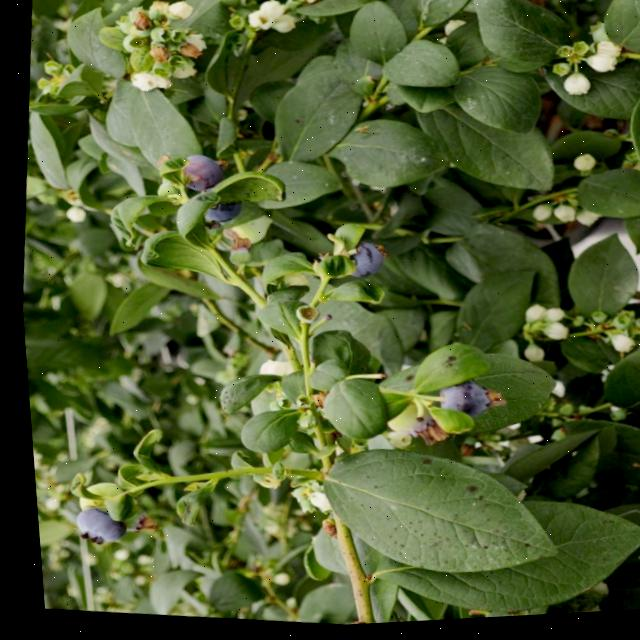RipeBlueBerry: (432, 379, 494, 424), (63, 505, 118, 548), (335, 240, 385, 285), (177, 152, 224, 196), (198, 198, 240, 228)
